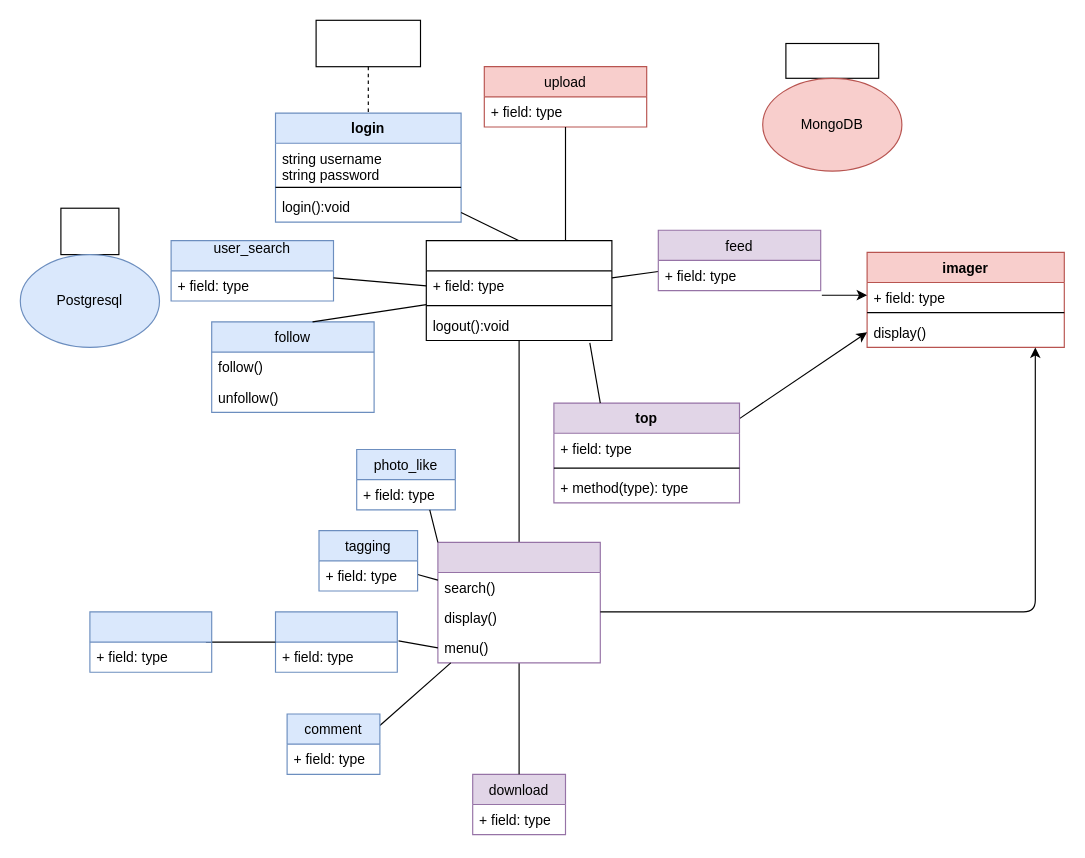
This 1085x858 diagram has some shape labels left out. The shapes that lost their labels are listed below. From the top down, each one's box as (x1, y1, x2, y2) in pixels, then its label:
(315, 19, 420, 67): User App
(785, 42, 879, 78): NoSQL
(60, 207, 119, 255): SQL
(425, 240, 612, 340): main_menu
(437, 541, 600, 663): search_view_image
(89, 611, 212, 672): comment_like
(274, 611, 397, 672): view_comments
